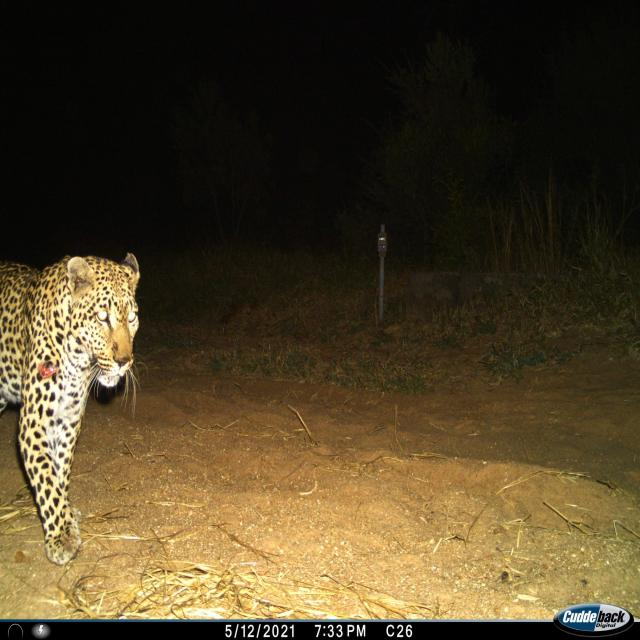Leopard: (4, 254, 142, 547)
